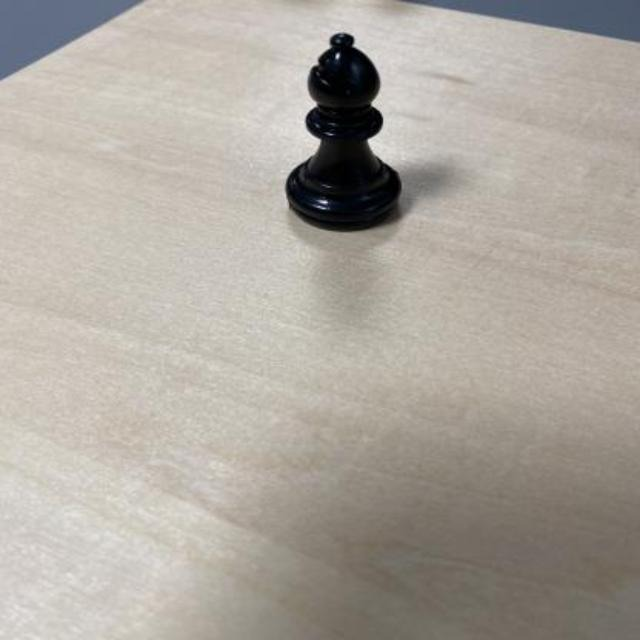black-bishop: (283, 32, 407, 230)
